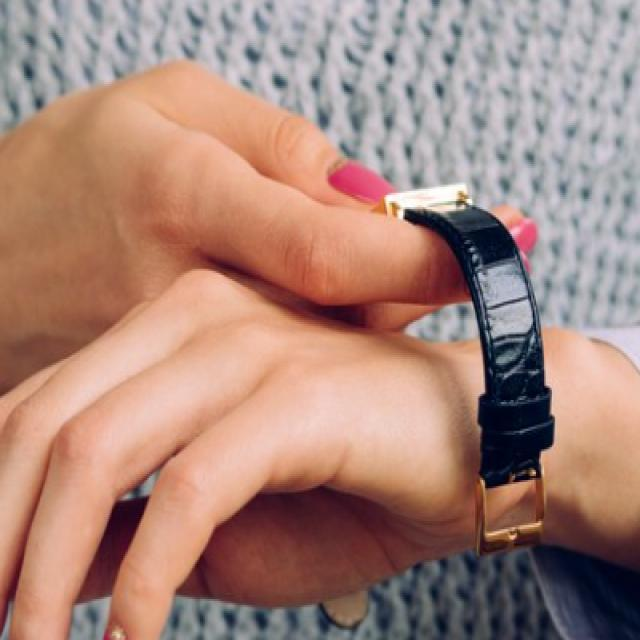Watch: (385, 181, 558, 554)
